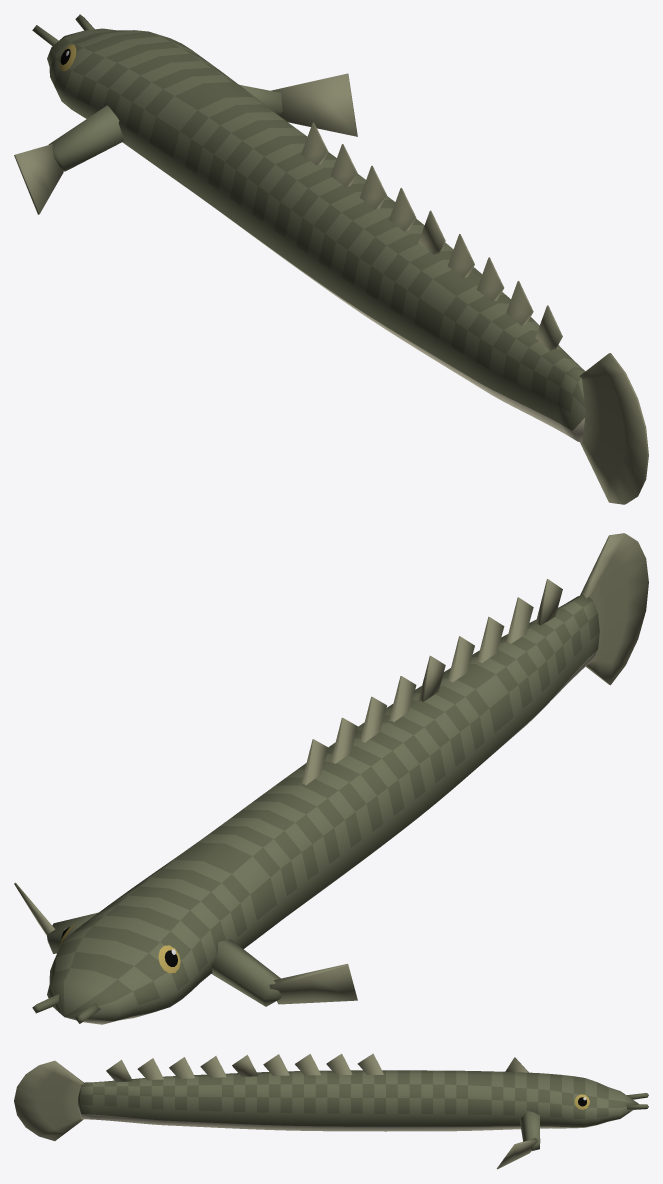
Rendered from bichir.glb.
3 renders of one model, top to bottom at view 1: azimuth 30°, elevation 25°; view 2: azimuth 150°, elevation 25°; view 3: azimuth 270°, elevation 25°, orthographic. The views are drawn at different scales.
Visible parts, largest first — view 1: bichir; view 2: bichir; view 3: bichir.
Part boxes in pixels (box(x1,y1,x2,y2)): bichir: box(14, 14, 648, 504); bichir: box(14, 533, 648, 1024); bichir: box(14, 1053, 648, 1169).
Size of the model in its own units: 0.9228 by 0.4295 by 2.83.
